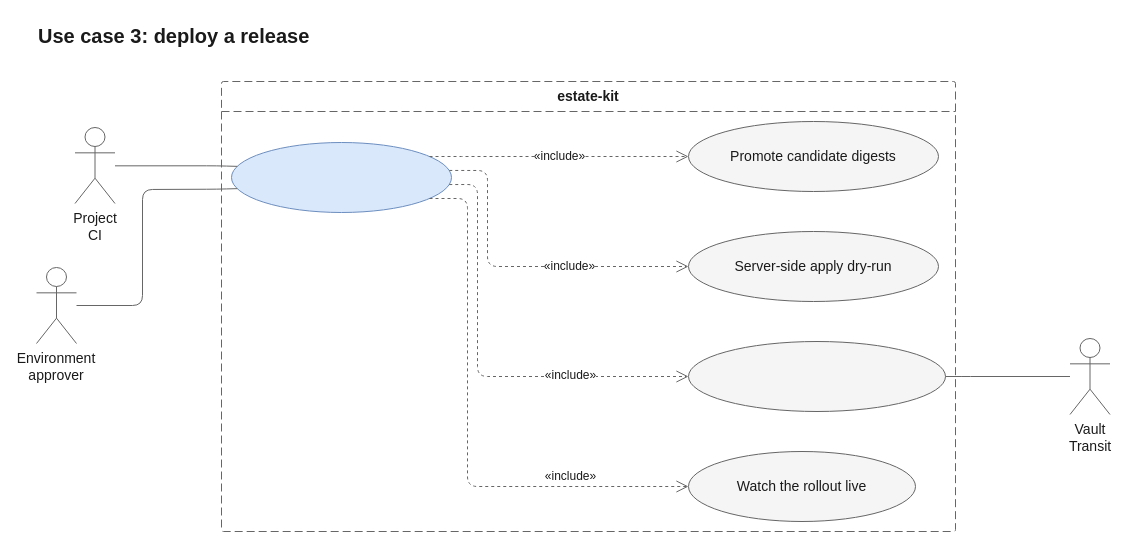
The diagram is 1128 pixels wide and 549 high, and some of its shapes have lost their labels. Here are the shapes that lost their labels. From the top down, the centre of each, then its label:
At pixel 341 177: "Deploy a release".
At pixel 817 376: "Sign and move the prod tag".
